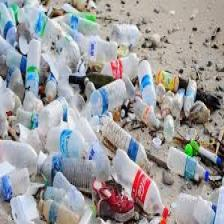plastic: (109, 149, 171, 223), (101, 116, 151, 166), (167, 138, 208, 188), (54, 19, 85, 80), (22, 3, 60, 50), (53, 154, 96, 192), (1, 136, 39, 175), (172, 193, 218, 224), (37, 98, 76, 134), (47, 125, 89, 157), (38, 190, 77, 224), (34, 182, 76, 212), (88, 83, 130, 113), (22, 39, 41, 101), (136, 58, 157, 109), (86, 32, 116, 64), (63, 12, 99, 38), (103, 57, 140, 82), (112, 19, 142, 49), (16, 104, 40, 138), (0, 170, 31, 196), (0, 4, 17, 46), (184, 77, 199, 117), (159, 66, 178, 92), (6, 64, 22, 93), (44, 62, 56, 98)
